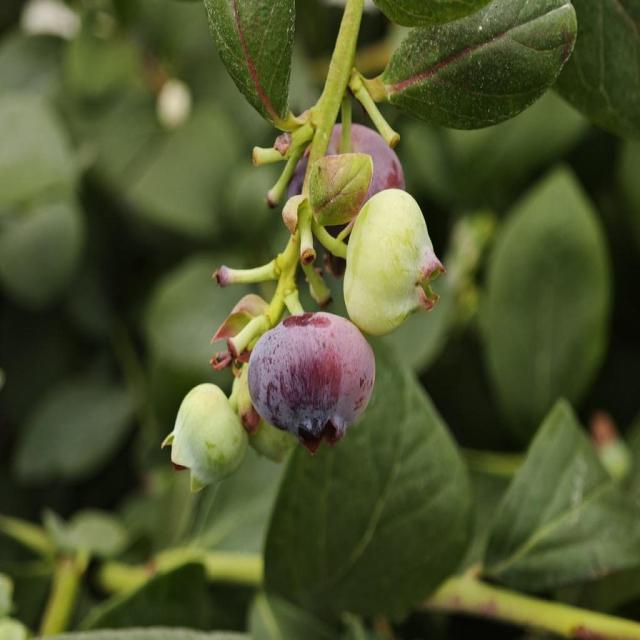Semi-RipeBlueBerry: (245, 310, 378, 444)
UnripeBlueBerry: (342, 186, 439, 337)
